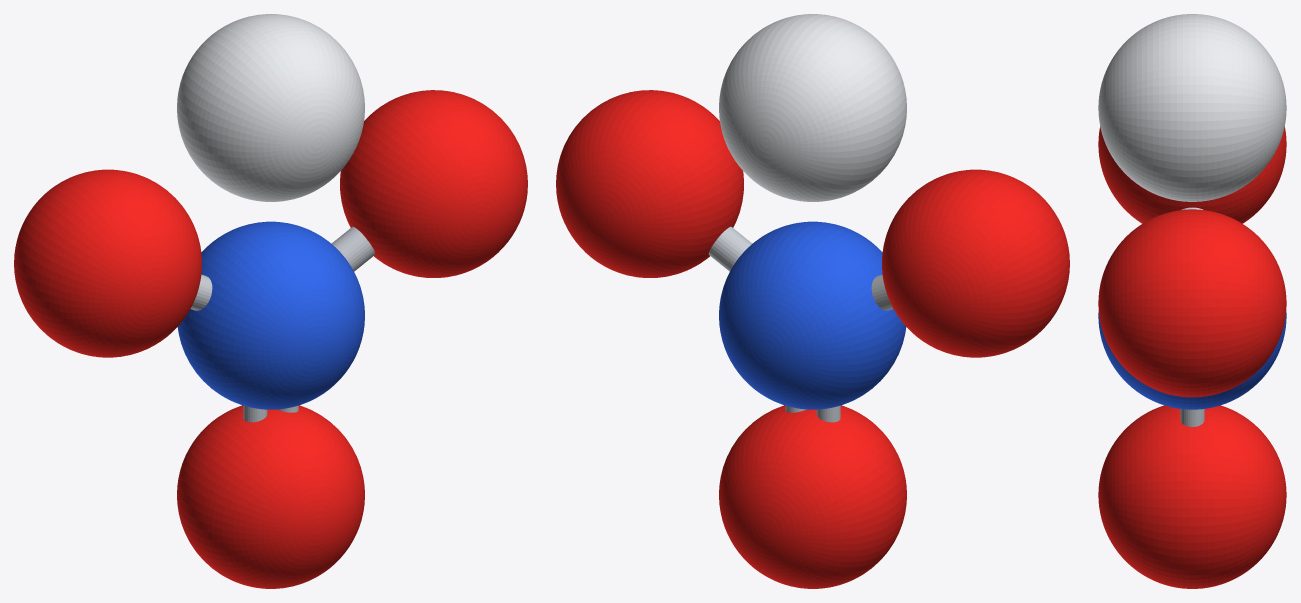
The model's file is silver_nitrate.glb.
The picture shows the model from 3 angles, left to right: view 1: azimuth 30°, elevation 25°; view 2: azimuth 150°, elevation 25°; view 3: azimuth 270°, elevation 25°; orthographic projection.
Visible parts, largest first — view 1: Silver_Ag, Oxygen_O_Left, Oxygen_O_Right, Oxygen_O_Bottom, Nitrogen_N, N-O_Right; view 2: Silver_Ag, Oxygen_O_Left, Oxygen_O_Right, Oxygen_O_Bottom, Nitrogen_N, N-O_Right; view 3: Oxygen_O_Right, Silver_Ag, Oxygen_O_Bottom, Oxygen_O_Left, Nitrogen_N, N-O_Bottom_Double_2.
Boxes of the visible parts, x1,y1,x2,y2 form: Silver_Ag: (177, 14, 364, 201); Oxygen_O_Left: (14, 169, 201, 357); Oxygen_O_Right: (340, 90, 527, 277); Oxygen_O_Bottom: (177, 405, 364, 588); Nitrogen_N: (177, 221, 364, 409); N-O_Right: (331, 226, 375, 271); Silver_Ag: (719, 14, 906, 201); Oxygen_O_Left: (882, 169, 1069, 357); Oxygen_O_Right: (556, 90, 743, 277); Oxygen_O_Bottom: (719, 405, 906, 588); Nitrogen_N: (719, 221, 906, 409); N-O_Right: (708, 226, 752, 271); Oxygen_O_Right: (1098, 209, 1286, 397); Silver_Ag: (1098, 14, 1286, 201); Oxygen_O_Bottom: (1098, 405, 1286, 588); Oxygen_O_Left: (1098, 126, 1286, 223); Nitrogen_N: (1098, 312, 1286, 409); N-O_Bottom_Double_2: (1180, 409, 1204, 426).
Bounding box in the file's own units: 2.34 × 2.55 × 0.78.
